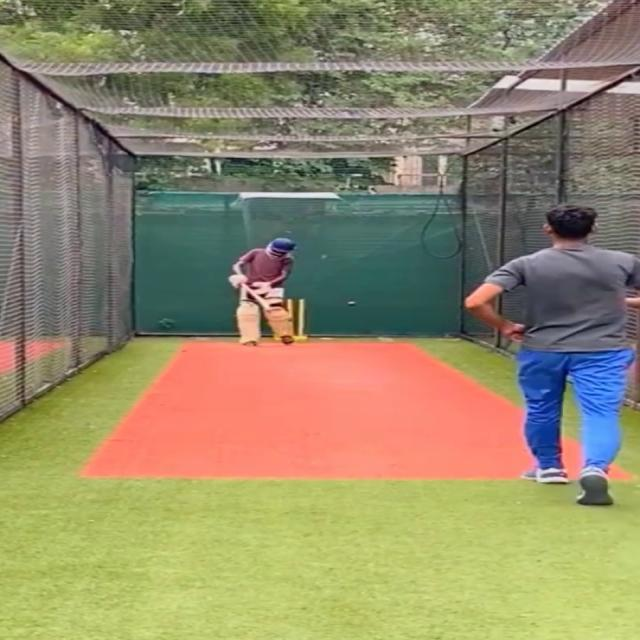stump: (286, 298, 308, 340)
